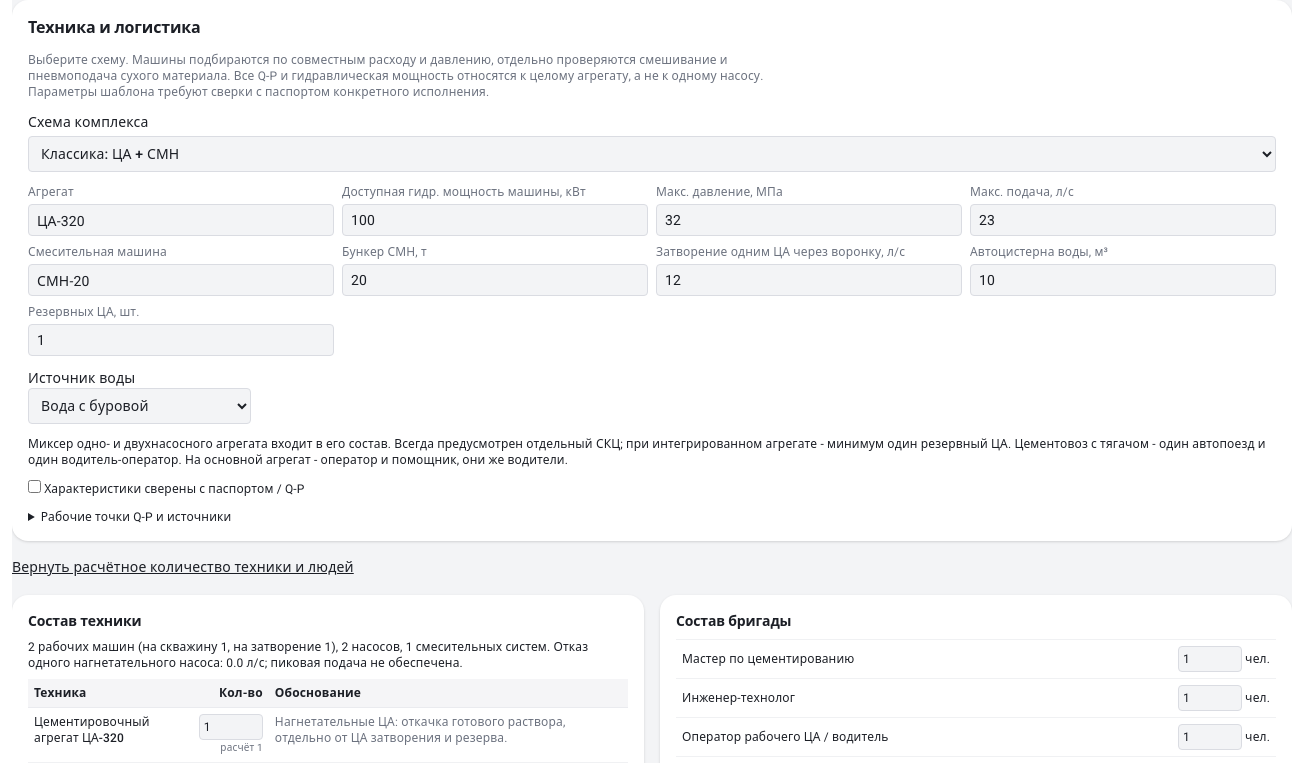
Test case: switches classic, twin, single and mixer-CA layouts with persisted callbacks
Later steps or results of the test are not shown.
Select "Двухнасосный агрегат + ЦТ-25" in the dropdown labelled "Схема комплекса" at point(652, 154), box [28,136,1276,172]
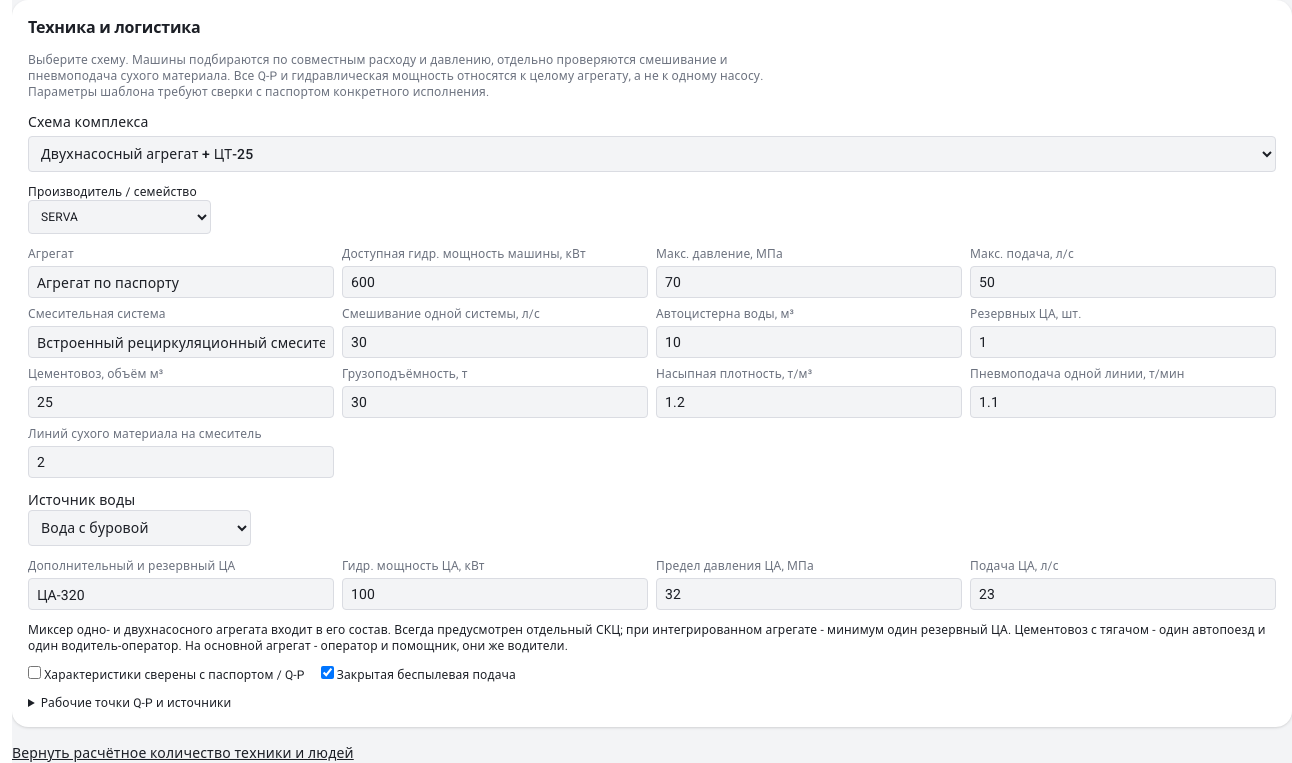
Expected: the text "Производитель / семейство" is shown, [28,185,211,234]
Select "Однонасосный агрегат + ЦТ-25" in the dropdown labelled "Схема комплекса" at point(652, 154), box [28,136,1276,172]
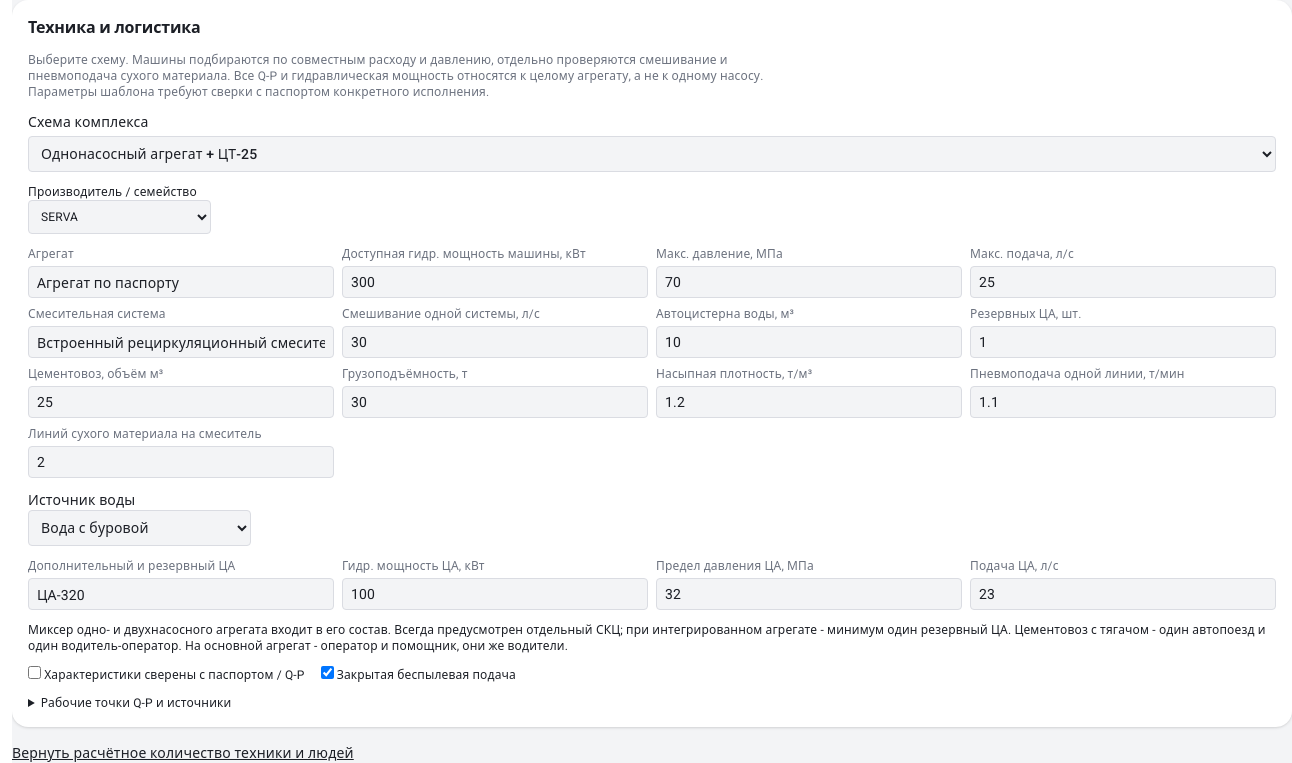
Expected: the text "Производитель / семейство" is shown, [28,185,211,234]
Select "Миксер + ЦА + ЦТ-25" in the dropdown labelled "Схема комплекса" at point(652, 154), box [28,136,1276,172]
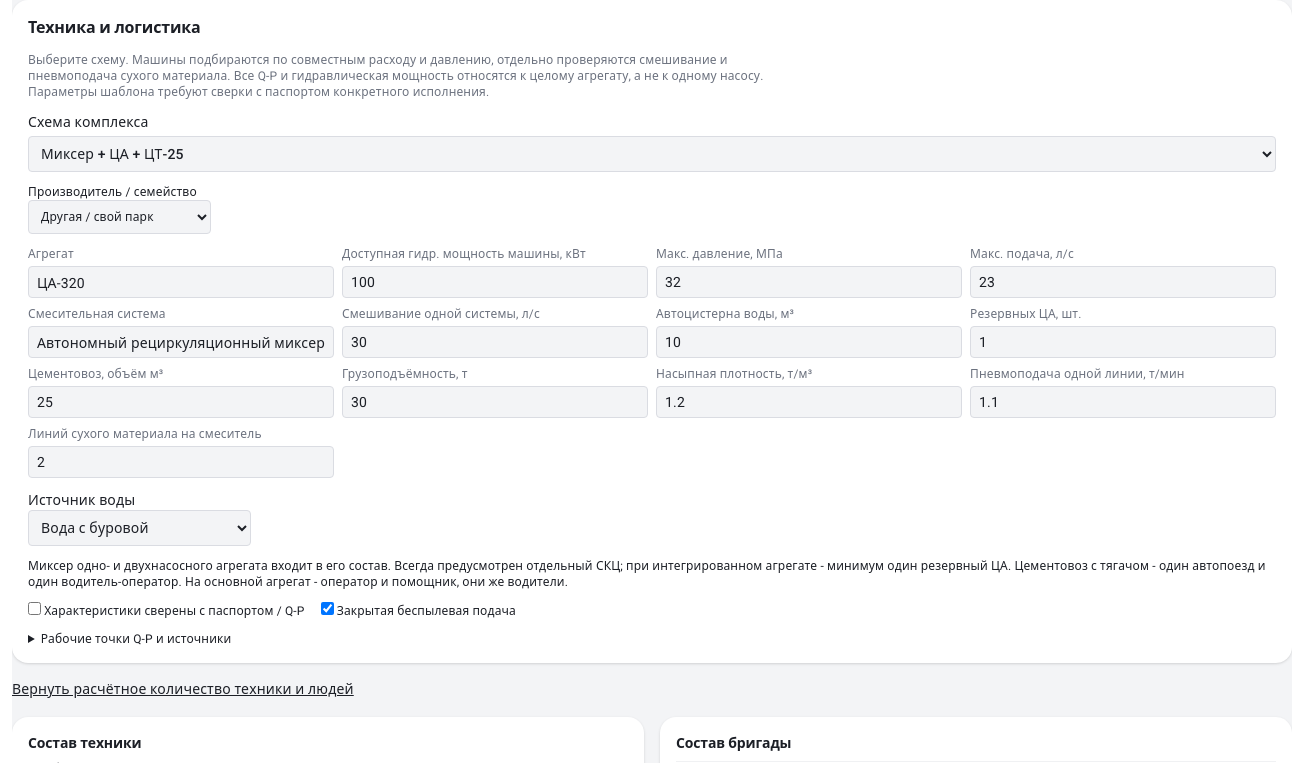
Expected: the text "Производитель / семейство" is shown, [28,185,211,234]
